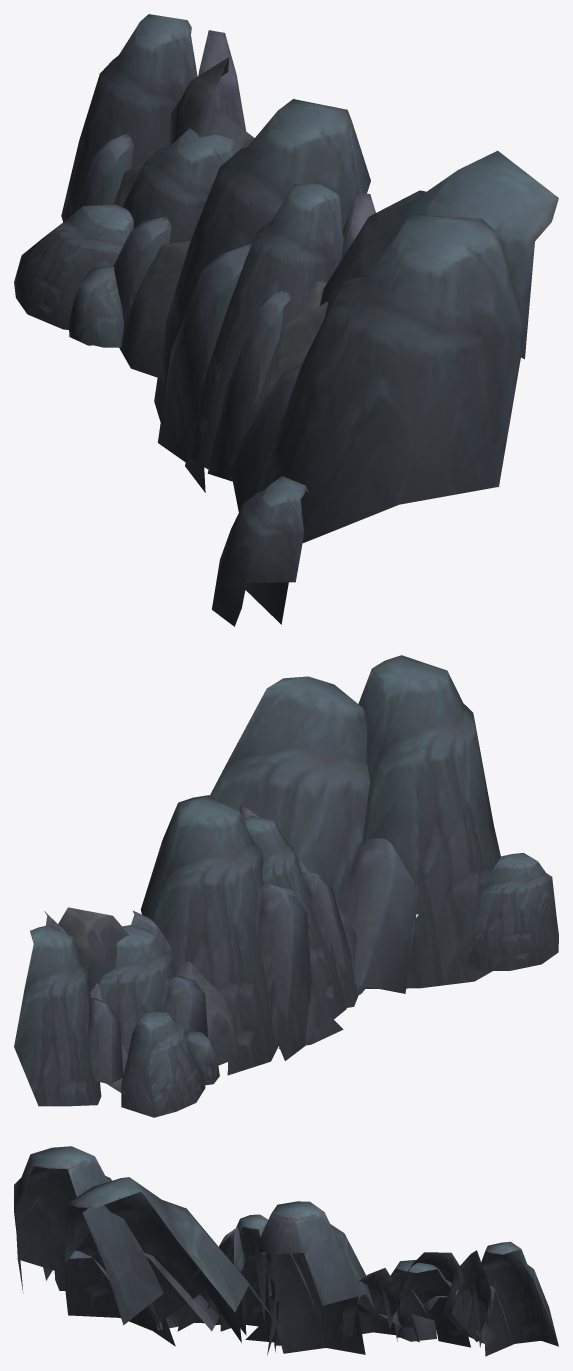
Rendered from Area_08_15.fbx.
3 views of the same model, one above another, from view 1: azimuth 30°, elevation 25°; view 2: azimuth 150°, elevation 25°; view 3: azimuth 270°, elevation 25° (orthographic). The views are drawn at different scales.
Visible parts, largest first — view 1: Area_08_15; view 2: Area_08_15; view 3: Area_08_15.
Boxes of the visible parts, <box> form: Area_08_15: <box>14,14,558,626</box>; Area_08_15: <box>14,655,558,1117</box>; Area_08_15: <box>14,1146,558,1356</box>.
Size of the model in its own units: 4218 by 3927 by 9274.
